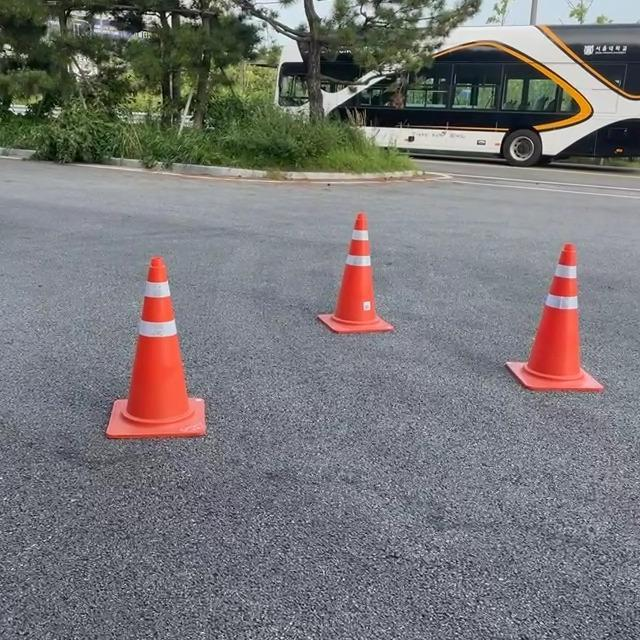fallen_object: (73, 235, 202, 443), (483, 217, 603, 421), (323, 176, 412, 361)
